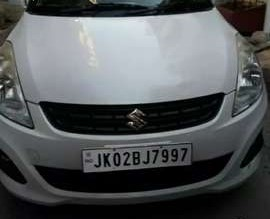JK02BJ7997: (82, 143, 191, 173)
